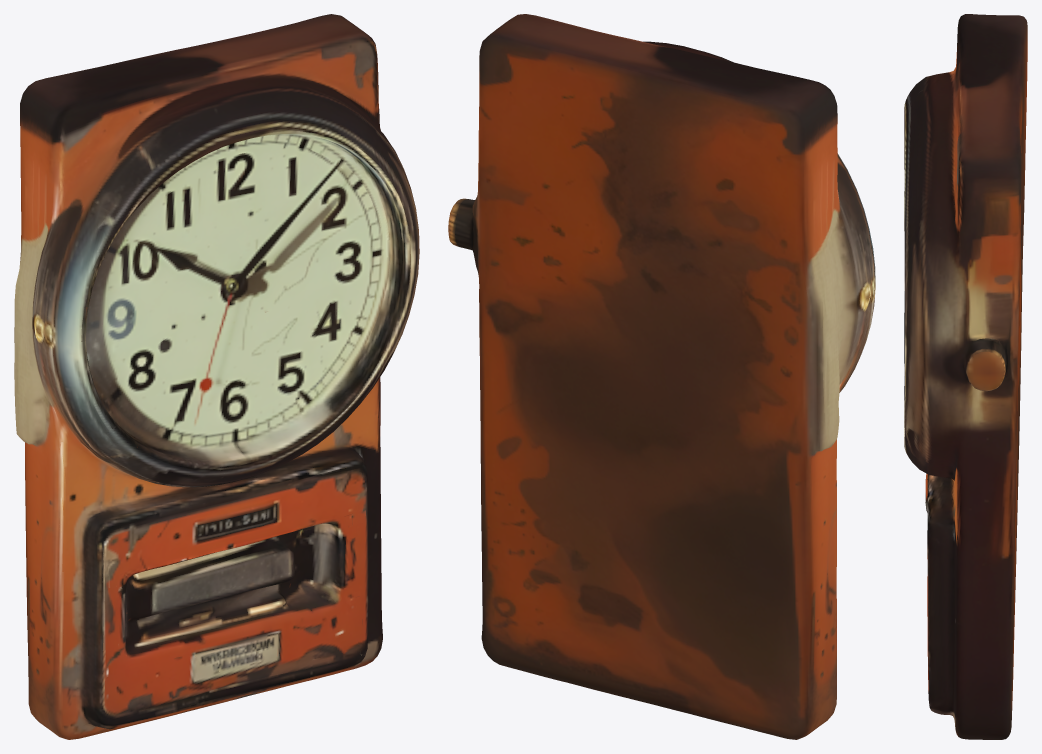
Rendered from Clock.fbx.
3 views of the same model, side by side, from view 1: azimuth 30°, elevation 25°; view 2: azimuth 150°, elevation 25°; view 3: azimuth 270°, elevation 25° (orthographic). The views are drawn at different scales.
Parts seen in each view (by area): view 1: model; view 2: model; view 3: model.
Boxes of the visible parts, <box> form: model: <box>14,14,419,739</box>; model: <box>448,14,875,739</box>; model: <box>904,14,1027,739</box>.
Bounding box in the file's own units: 121 × 191 × 35.99.
